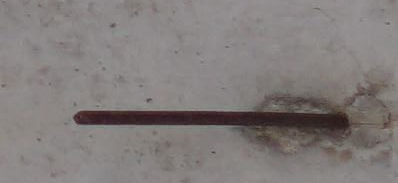Exposed reinforcement: (73, 110, 350, 130)
Spalling: (254, 92, 391, 150)
